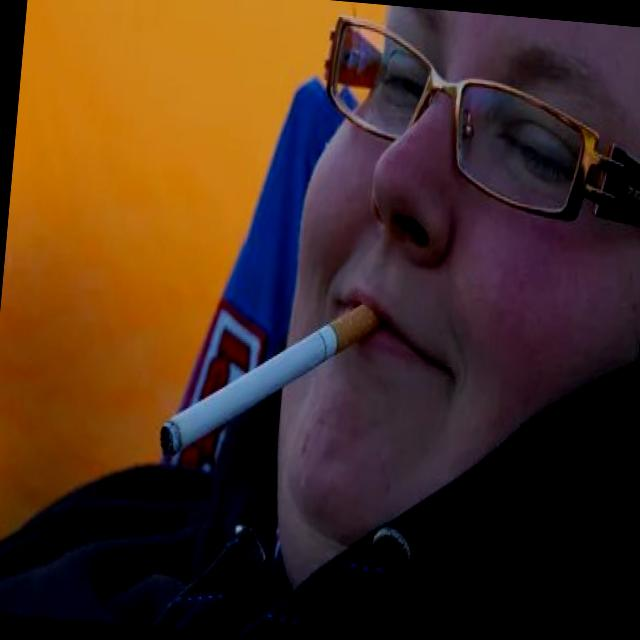cigarette: (155, 280, 385, 480)
